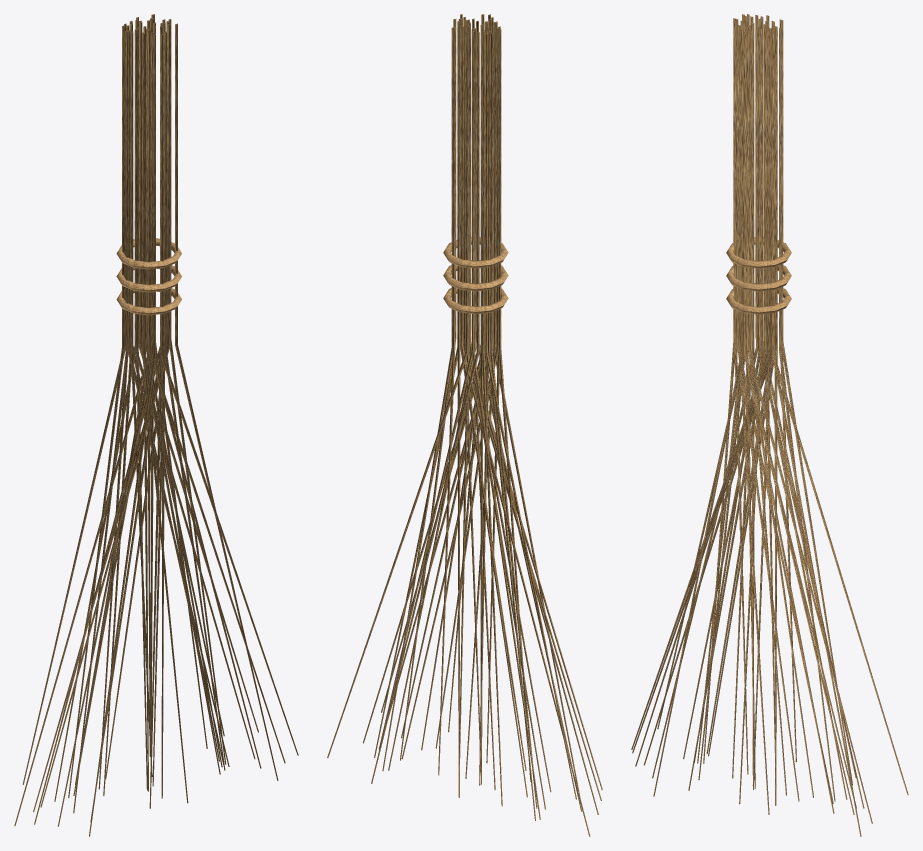
File: prop_jharu.glb
3 views of the same model, side by side, from view 1: azimuth 30°, elevation 25°; view 2: azimuth 150°, elevation 25°; view 3: azimuth 330°, elevation 25° (orthographic).
Parts seen in each view (by area): view 1: prop_jharu; view 2: prop_jharu; view 3: prop_jharu.
Boxes of the visible parts, <box> form: prop_jharu: <box>14,14,298,836</box>; prop_jharu: <box>327,14,602,836</box>; prop_jharu: <box>631,14,908,836</box>.
Bounding box in the file's own units: 0.2395 × 0.7 × 0.0772.
Materials: 2 (2 with a texture image).
